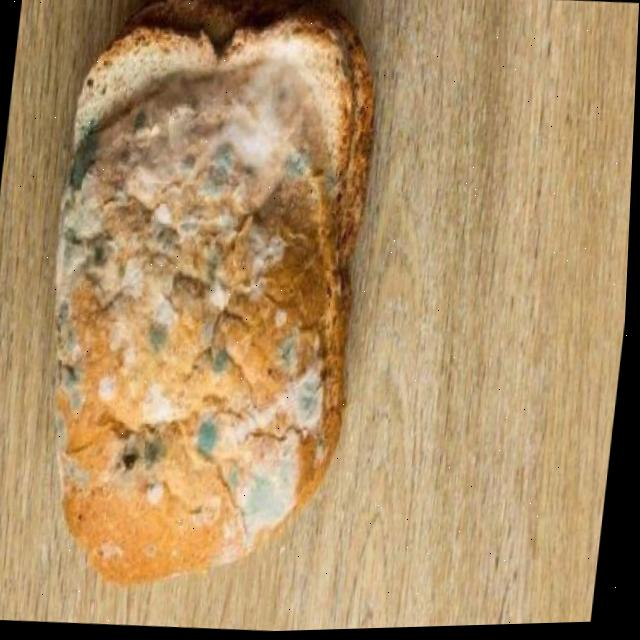Wet: (25, 0, 439, 588)
